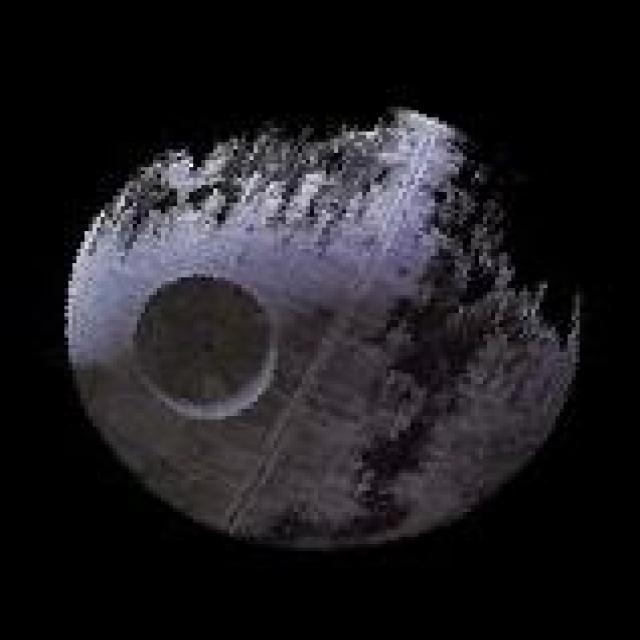Death Star: (56, 96, 592, 555)
